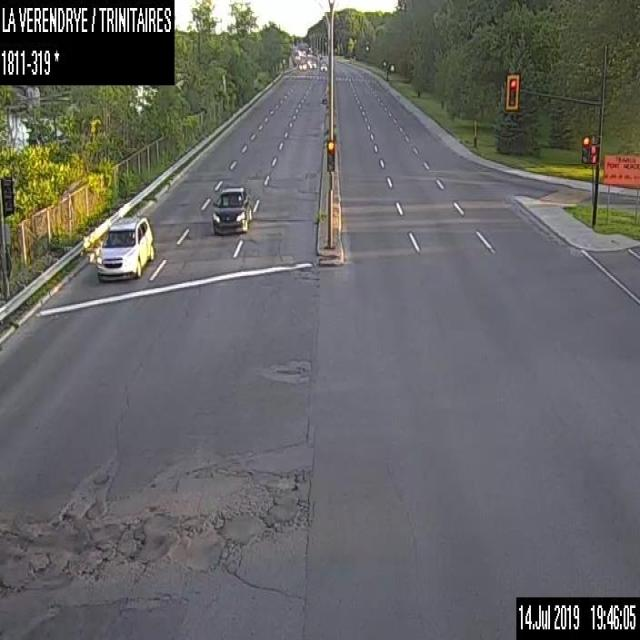vehicle: (96, 215, 154, 280), (211, 184, 252, 235), (309, 60, 316, 68), (298, 61, 305, 68), (320, 62, 326, 70)
